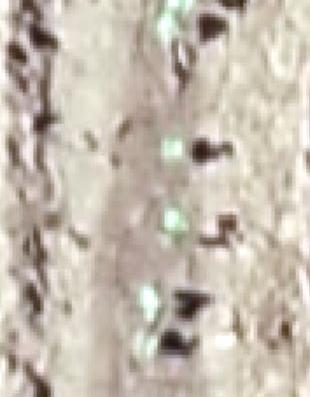cotton: (166, 209, 186, 233), (158, 16, 186, 33), (141, 289, 159, 315), (134, 336, 158, 355), (163, 137, 183, 157), (170, 1, 193, 13)
